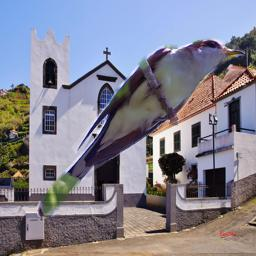Cuckoo: (37, 38, 245, 217)
